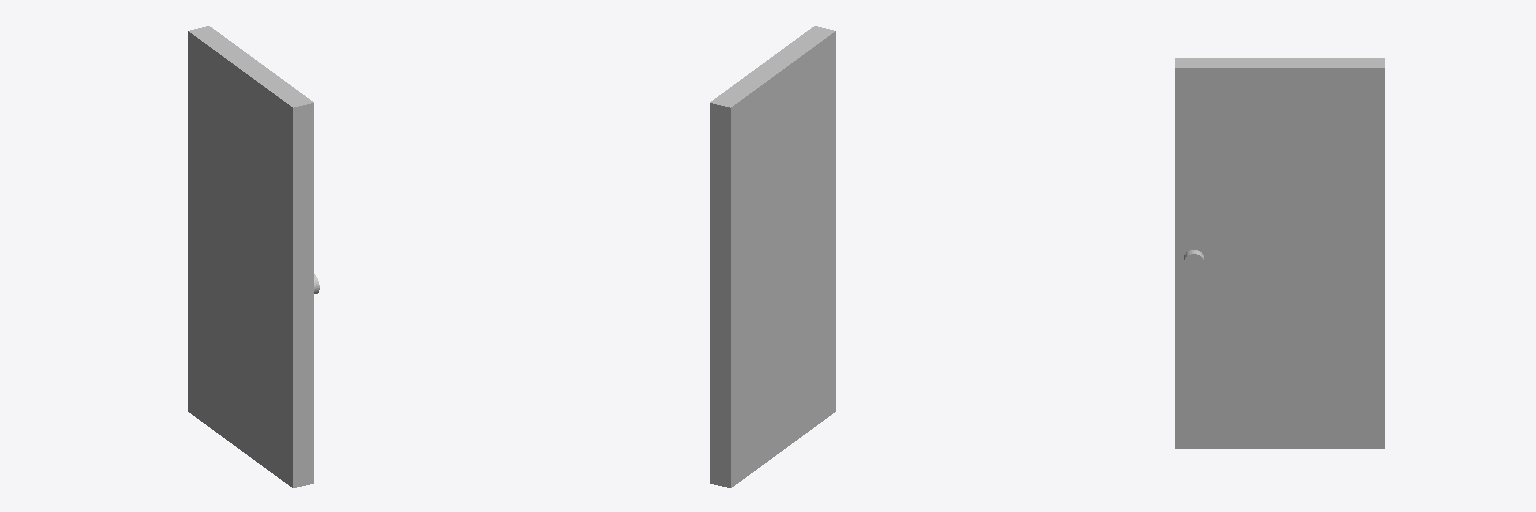
File: 衣柜门.obj
3 renders of one model, left to right at view 1: azimuth 30°, elevation 25°; view 2: azimuth 150°, elevation 25°; view 3: azimuth 270°, elevation 25°, orthographic.
Parts seen in each view (by area): view 1: 柱体; view 2: 柱体; view 3: 柱体.
Boxes of the visible parts, <box> form: 柱体: <box>188,26,319,487</box>; 柱体: <box>710,26,835,487</box>; 柱体: <box>1175,58,1384,448</box>.
Size of the model in its own units: 0.3389 by 4 by 2.